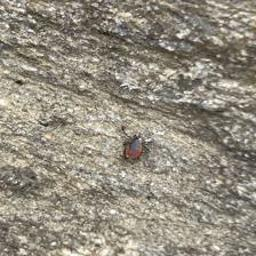Ixodes scapularis: (118, 125, 153, 161)
